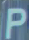Parking: (4, 4, 26, 39)
